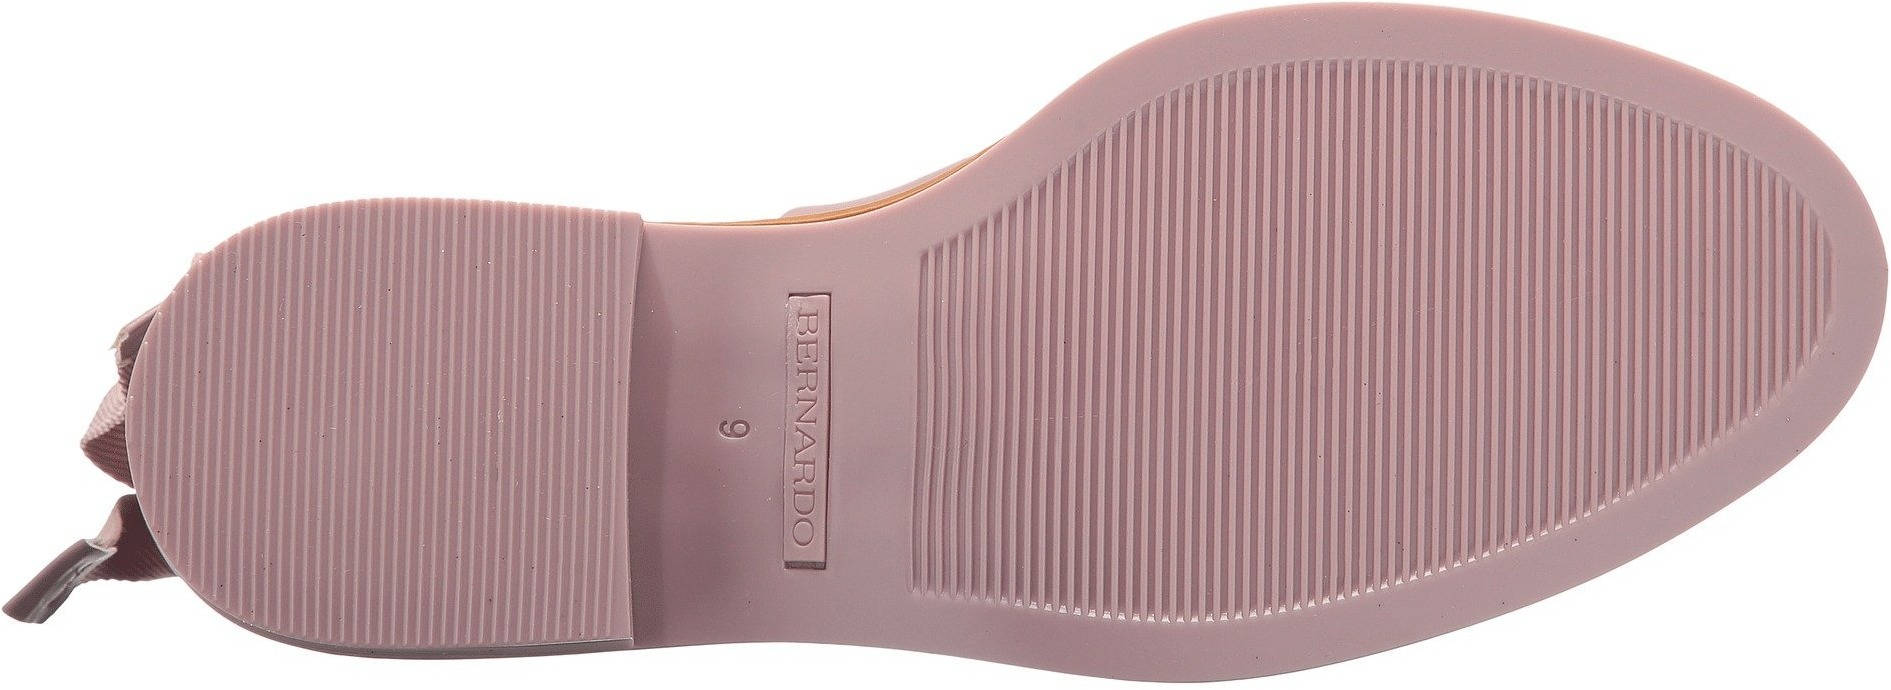exclude: (623, 199, 912, 679)
line: (1407, 93, 1676, 374), (1129, 109, 1394, 364), (1142, 368, 1384, 591), (374, 337, 601, 569), (919, 242, 1137, 456), (191, 304, 367, 475), (1397, 374, 1561, 533), (1691, 210, 1837, 359), (954, 462, 1093, 609)
other: (377, 226, 595, 454), (169, 347, 371, 543), (377, 460, 567, 647), (268, 236, 371, 350)
quad: (686, 273, 851, 593)
text: (686, 273, 851, 593)
